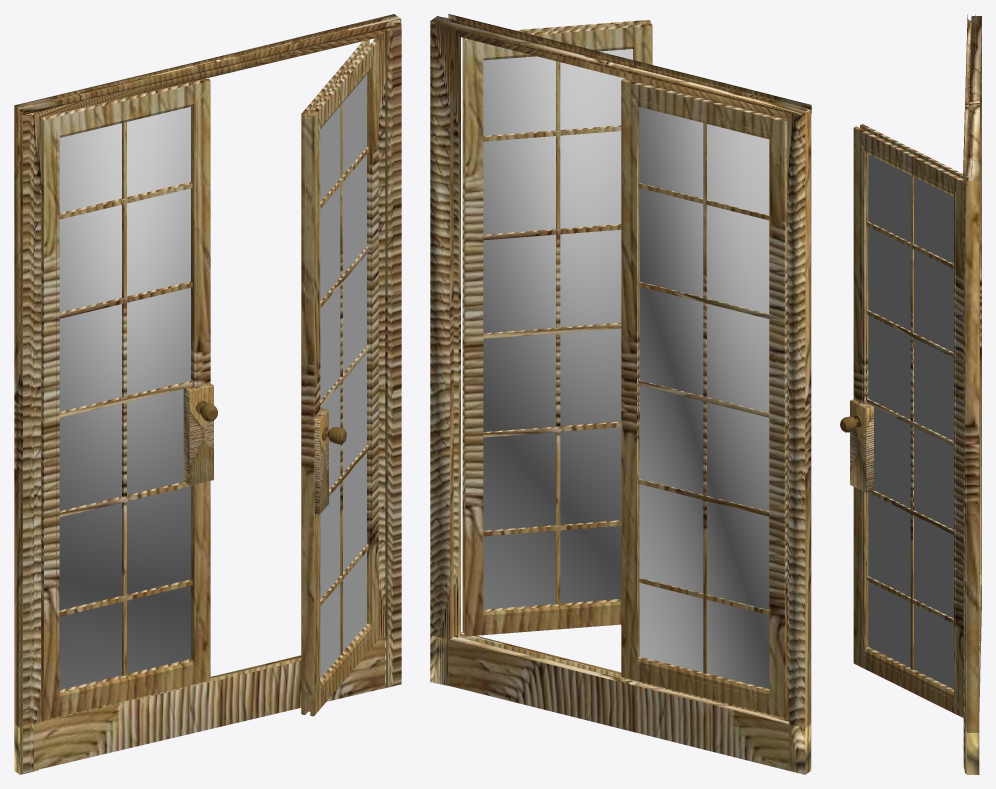
The model's file is Finestra.fbx.
The picture shows the model from 3 angles, left to right: view 1: azimuth 30°, elevation 25°; view 2: azimuth 150°, elevation 25°; view 3: azimuth 270°, elevation 25°; orthographic projection. The views are drawn at different scales.
Parts seen in each view (by area): view 1: Vetro_sx, Cornice, Finestra_sx, Finestra_dx, Vetro_dx, Box_sx, Box_dx; view 2: Vetro_dx, Vetro_sx, Cornice, Finestra_sx, Finestra_dx; view 3: Vetro_dx, Finestra_dx, Cornice, Box_dx, Finestra_sx, pomello_dx.
Boxes of the visible parts, x1=… form: Vetro_sx: x1=59, y1=107, x2=190, y2=689; Cornice: x1=14, y1=14, x2=401, y2=774; Finestra_sx: x1=41, y1=78, x2=210, y2=719; Finestra_dx: x1=301, y1=39, x2=378, y2=716; Vetro_dx: x1=320, y1=74, x2=366, y2=678; Box_sx: x1=183, y1=383, x2=213, y2=485; Box_dx: x1=314, y1=408, x2=328, y2=514; Vetro_dx: x1=483, y1=49, x2=632, y2=609; Vetro_sx: x1=639, y1=107, x2=769, y2=688; Cornice: x1=430, y1=14, x2=811, y2=774; Finestra_sx: x1=621, y1=78, x2=787, y2=717; Finestra_dx: x1=462, y1=20, x2=652, y2=636; Vetro_dx: x1=868, y1=154, x2=953, y2=689; Finestra_dx: x1=853, y1=124, x2=967, y2=717; Cornice: x1=963, y1=14, x2=981, y2=774; Box_dx: x1=850, y1=399, x2=873, y2=492; Finestra_sx: x1=966, y1=37, x2=979, y2=593; pomello_dx: x1=840, y1=415, x2=861, y2=432.
Size of the model in its own units: 308 by 519 by 112.
